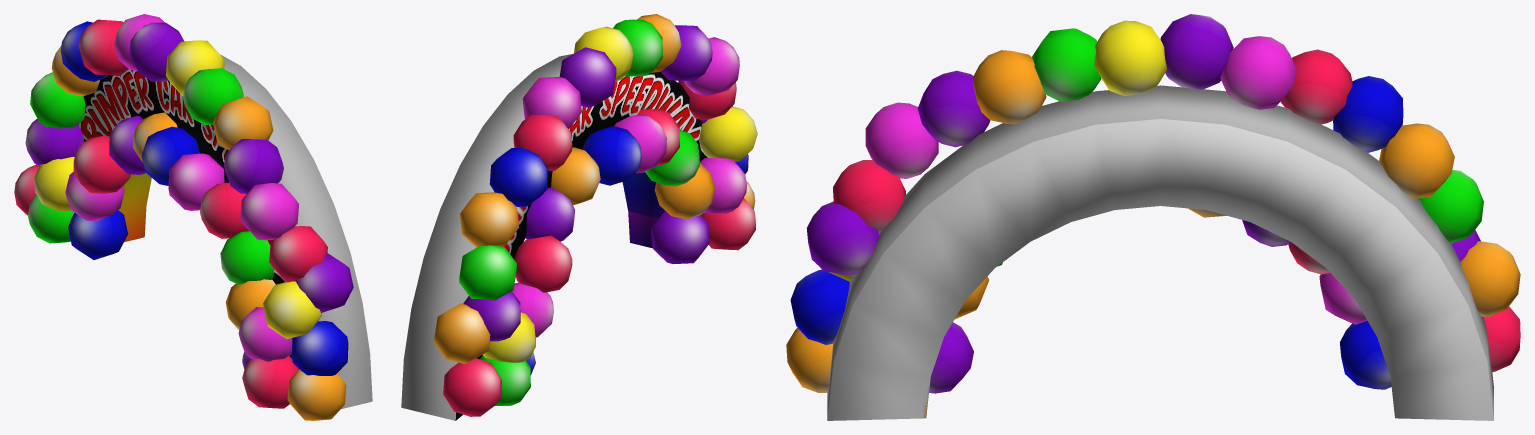
Rendered from racetrackstart.glb.
3 views of the same model, side by side, from view 1: azimuth 30°, elevation 25°; view 2: azimuth 150°, elevation 25°; view 3: azimuth 270°, elevation 25° (orthographic). The views are drawn at different scales.
Visible parts, largest first — view 1: Sphere.016; view 2: Sphere.016; view 3: Sphere.016.
Part boxes in pixels (x1,y1,x2,y2): Sphere.016: (14, 14, 372, 420); Sphere.016: (401, 14, 757, 420); Sphere.016: (786, 14, 1520, 420).
Size of the model in its own units: 3.75 by 9.75 by 17.71.
Materials: 1 (1 with a texture image).
